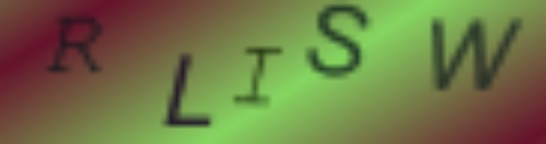I: (228, 44, 285, 109)
L: (163, 52, 216, 130)
R: (50, 13, 104, 77)
S: (303, 1, 375, 84)
W: (428, 11, 524, 93)
